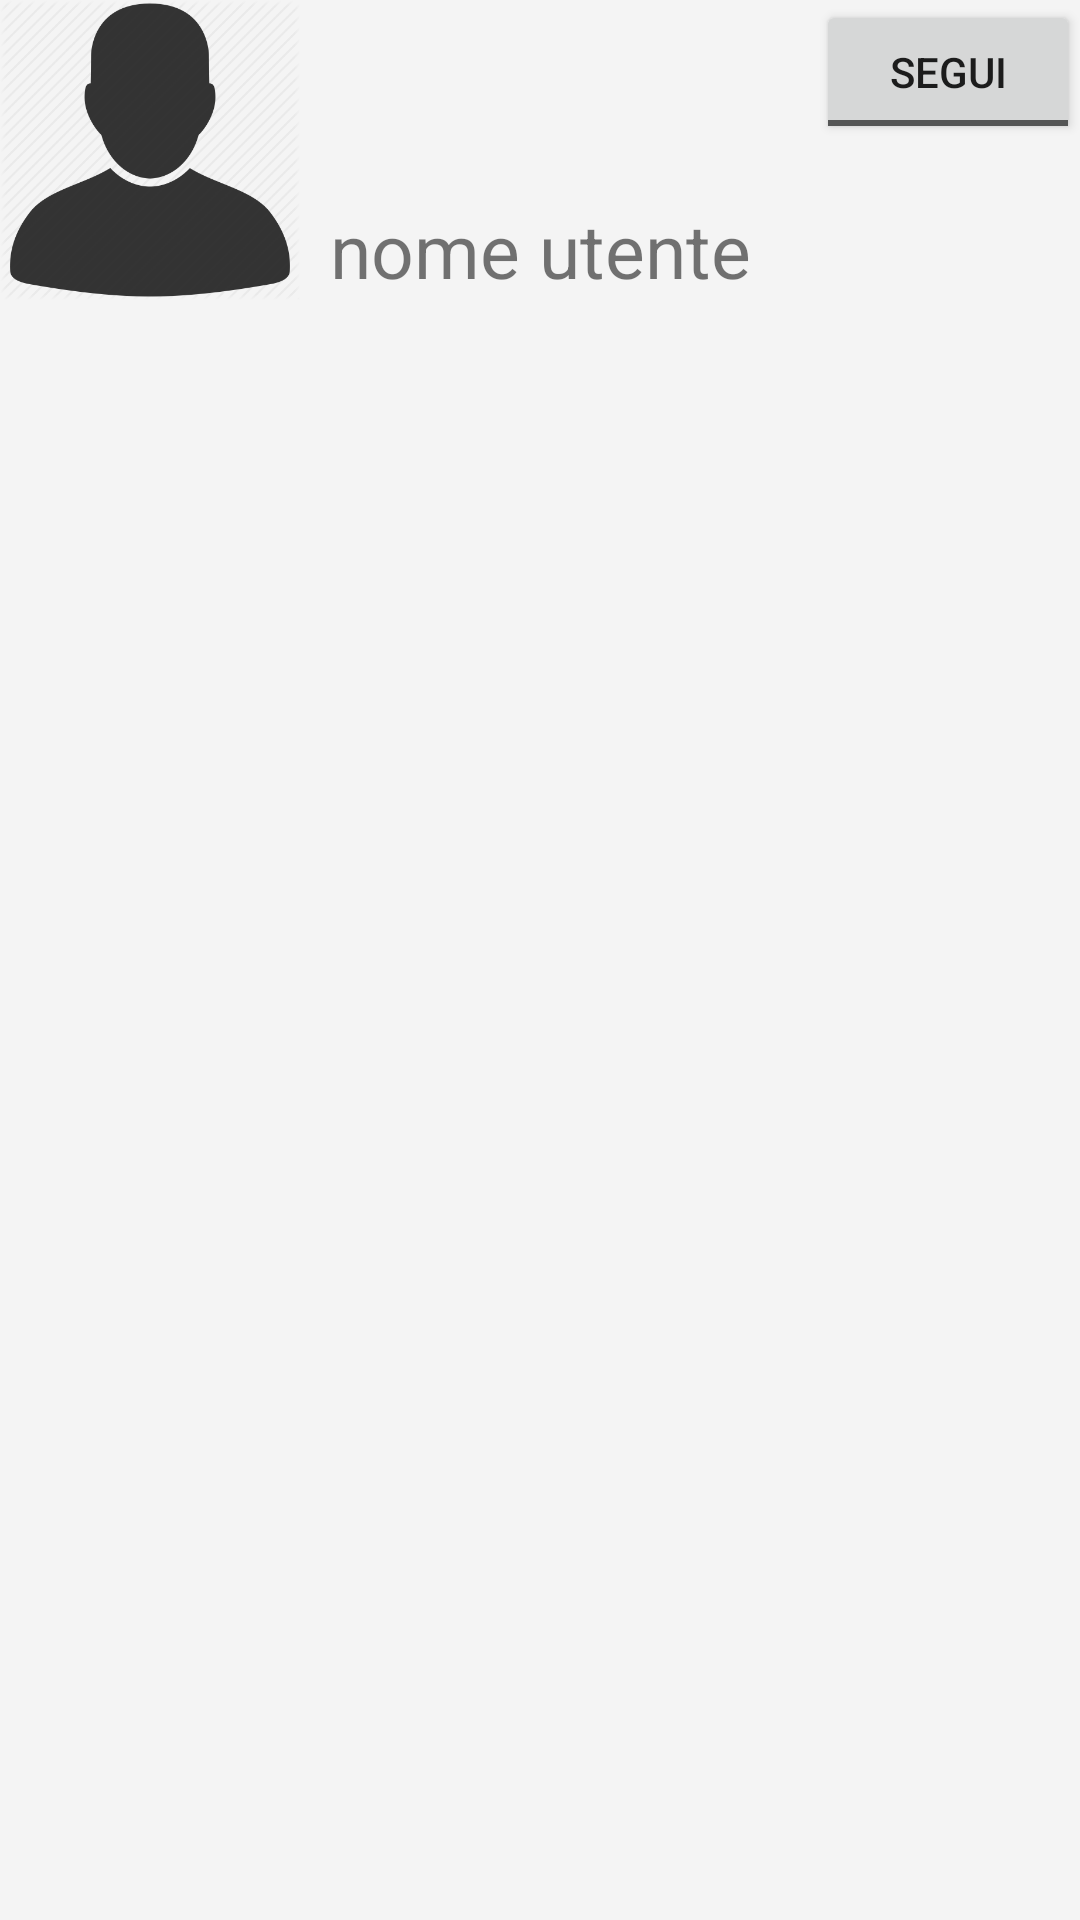

Locate icon controls on the screen. Image size 1080w x 1920h, boxes as (x1, y1, x2, y2).
fotoprofilodef: (10, 3, 290, 297)
